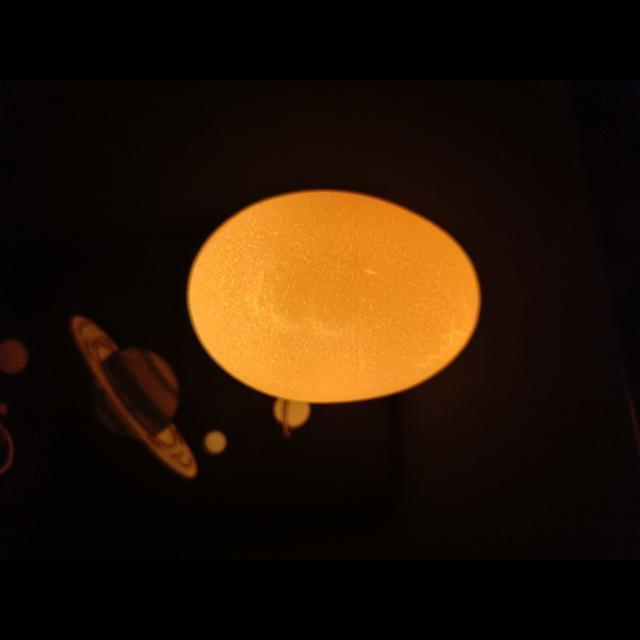AA - Premium: (188, 190, 480, 403)
